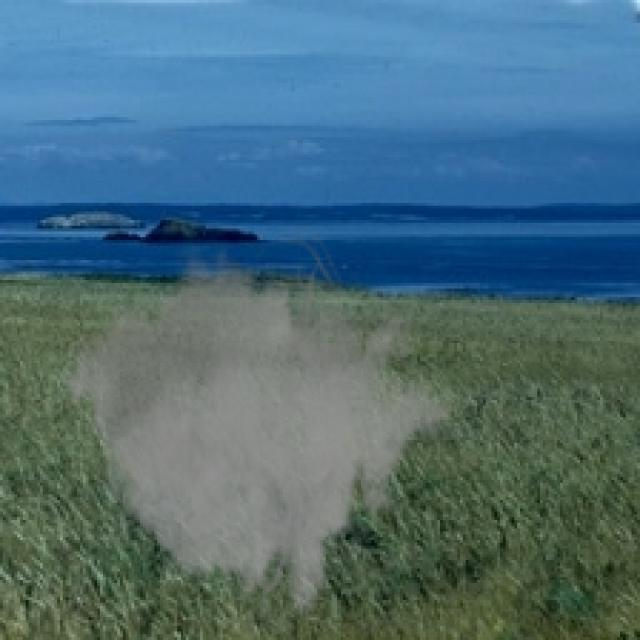Smoke: (62, 217, 454, 632)
